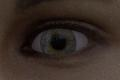eye: (42, 29, 76, 57)
